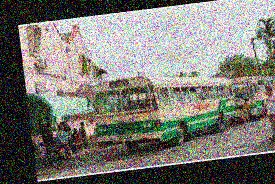bus: (88, 63, 237, 156), (230, 71, 275, 123)
